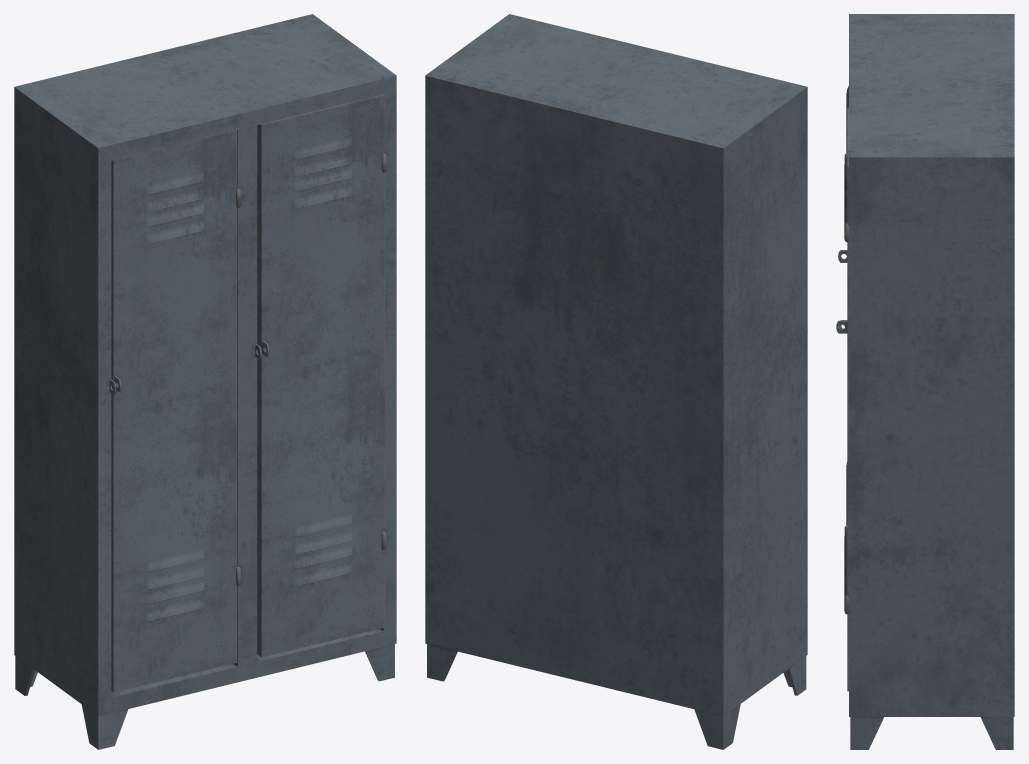
The model's file is Case_Main_AA.fbx.
3 views of the same model, side by side, from view 1: azimuth 30°, elevation 25°; view 2: azimuth 150°, elevation 25°; view 3: azimuth 270°, elevation 25° (orthographic).
Visible parts, largest first — view 1: Case_Main, Case_Door_L, Case_Door_R; view 2: Case_Main; view 3: Case_Main, Case_Door_L, Case_Door_R.
Boxes of the visible parts, x1,y1,x2,y2 form: Case_Main: [14, 14, 396, 749]; Case_Door_L: [257, 94, 384, 657]; Case_Door_R: [111, 130, 236, 692]; Case_Main: [425, 14, 807, 749]; Case_Main: [839, 14, 1014, 749]; Case_Door_L: [836, 107, 848, 691]; Case_Door_R: [838, 86, 848, 525].
Size of the model in its own units: 1.1 by 0.5788 by 2.12.
